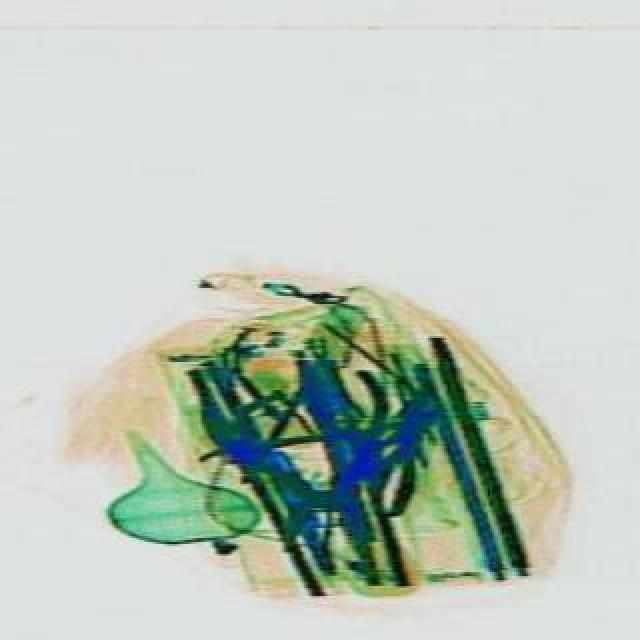wrench: (220, 368, 390, 556)
